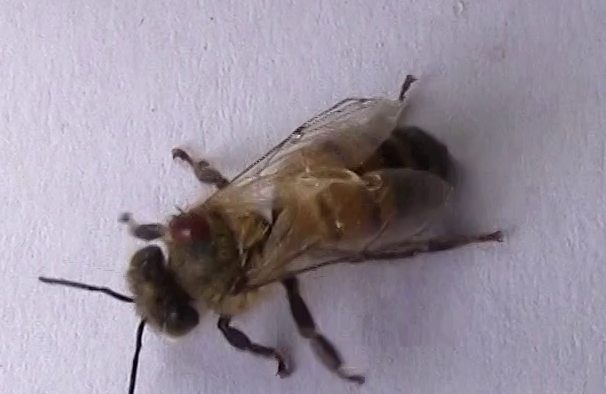Varroa destructor: (167, 208, 215, 249)
